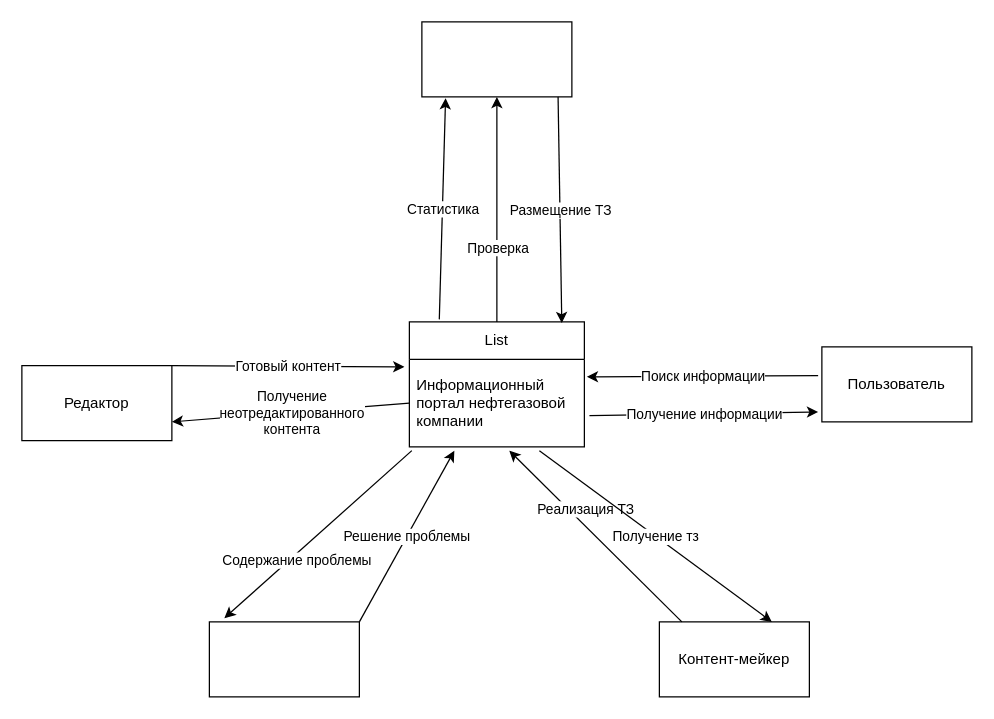
The diagram is 994 pixels wide and 719 high, and some of its shapes have lost their labels. Each missing label, with the centre of its shape:
"Модератор" goes at (x=496, y=59).
"Служба поддержки" goes at (x=283, y=659).
